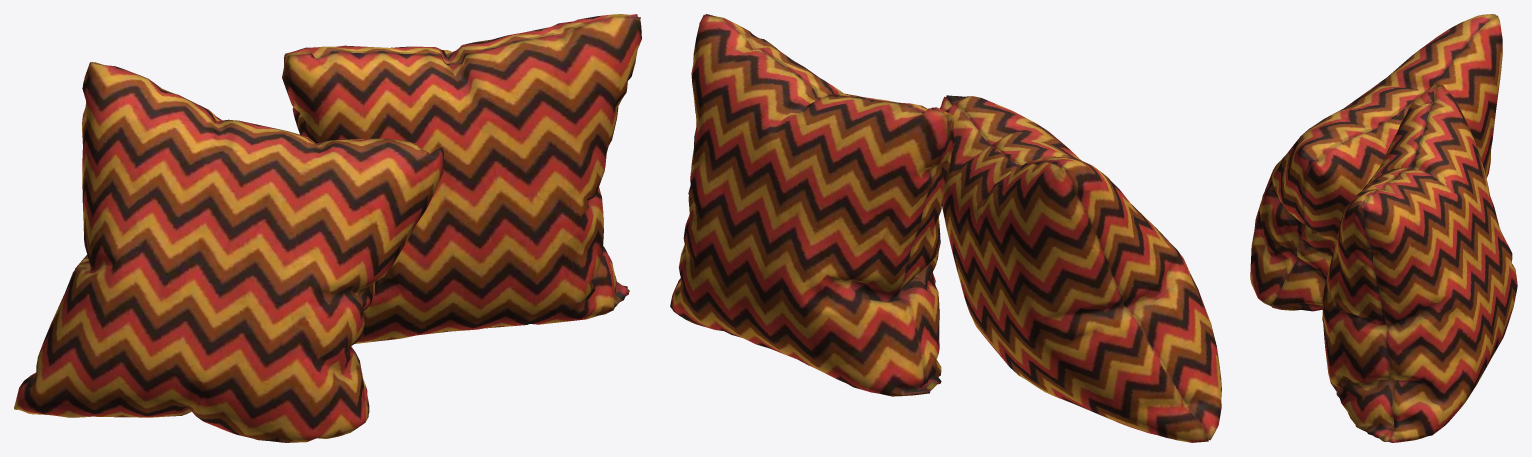
The model's file is pillows-m.glb.
3 views of the same model, side by side, from view 1: azimuth 30°, elevation 25°; view 2: azimuth 150°, elevation 25°; view 3: azimuth 270°, elevation 25° (orthographic). The views are drawn at different scales.
Parts seen in each view (by area): view 1: throw_pillows_01_pillow01, throw_pillows_01_pillow02; view 2: throw_pillows_01_pillow02, throw_pillows_01_pillow01; view 3: throw_pillows_01_pillow02, throw_pillows_01_pillow01.
Boxes of the visible parts, bbox=[...] form: throw_pillows_01_pillow01: bbox=[14, 62, 443, 442]; throw_pillows_01_pillow02: bbox=[282, 14, 641, 343]; throw_pillows_01_pillow02: bbox=[670, 14, 953, 396]; throw_pillows_01_pillow01: bbox=[940, 95, 1221, 442]; throw_pillows_01_pillow02: bbox=[1322, 84, 1517, 442]; throw_pillows_01_pillow01: bbox=[1250, 14, 1502, 311].
Bounding box in the file's own units: 0.9401 × 0.4502 × 0.4519.
1 material, 1 textured.
